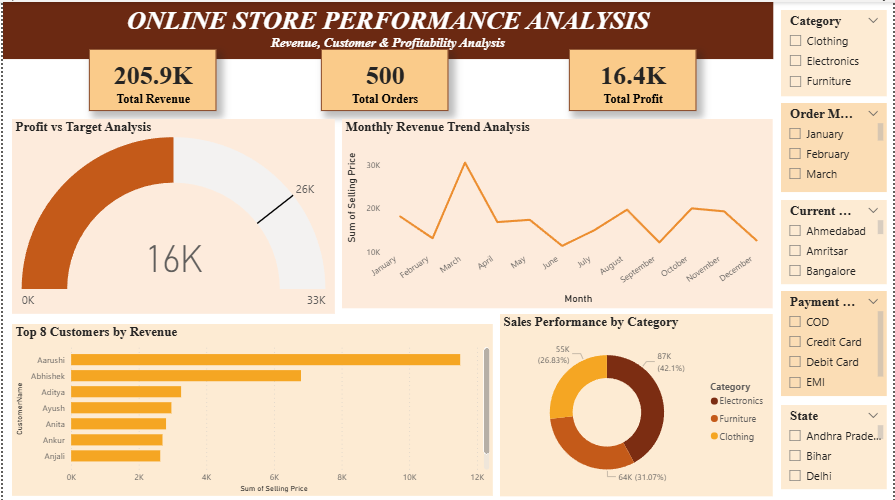

The page's visual inventory and layout, read from the dashboard file:
{"tool":"powerbi","page":{"name":"Online Store Performance Analysis","canvas":[1280,720],"ordinal":4},"visuals":[{"type":"textbox","box":[0,0,1106.6,81.9],"z":0},{"type":"card","fields":{"Values":["Sum(Online_Stores.Selling Price)"]},"box":[123.6,67.5,182.5,89.1],"z":1000},{"type":"card","fields":{"Values":["Count(Online_Stores.Order ID)"]},"box":[457,67.5,182.5,89.1],"z":2000},{"type":"card","fields":{"Values":["Sum(Online_Stores.Profit)"]},"box":[813.4,67.5,182.5,89.1],"z":3000},{"type":"donutChart","title":"Sales Performance by Category","fields":{"Category":["Online_Stores.Category"],"Y":["Sum(Online_Stores.Selling Price)"]},"box":[714.3,448.4,392.3,261.6],"z":4000},{"type":"lineChart","title":"Monthly Revenue Trend Analysis","fields":{"Category":["Online_Stores.Order Date.Variation.Date Hierarchy.Month"],"Y":["Sum(Online_Stores.Selling Price)"]},"box":[487.2,168.1,619.4,271.6],"z":5000},{"type":"gauge","title":"Profit vs Target Analysis","fields":{"Y":["Sum(Online_Stores.Profit)"],"TargetValue":["Sum(Online_Stores.Target Profit)"]},"box":[12.9,168.1,464.2,280.2],"z":6000},{"type":"clusteredBarChart","title":"Top 8 Customers by Revenue","fields":{"Category":["Online_Stores.CustomerName"],"Y":["Sum(Online_Stores.Selling Price)"]},"box":[12.9,462.8,691.3,247.2],"z":7000},{"type":"slicer","fields":{"Values":["Online_Stores.Category"]},"box":[1118.1,11.5,152.3,123.6],"z":8000},{"type":"slicer","fields":{"Values":["Online_Stores.Order Date.Variation.Date Hierarchy.Month"]},"box":[1118.1,145.1,152.3,127.9],"z":9000},{"type":"slicer","fields":{"Values":["Online_Stores.Payment Mode"]},"box":[1118.1,415.3,152.3,150.9],"z":10000},{"type":"slicer","fields":{"Values":["Online_Stores.State"]},"box":[1118.1,579.2,152.3,120.7],"z":11000},{"type":"slicer","fields":{"Values":["Online_Stores.City"]},"box":[1118.1,284.6,152.3,120.7],"z":12000}]}

Visuals, with their boxes in screenshot pixels (x1, y1, x2, y2), scaled from the page's 1280x720 canvas onto the 895x500 screenshot:
textbox: 0 0 774 57
card - Sum(Online_Stores.Selling Price): 86 47 214 109
card - Count(Online_Stores.Order ID): 320 47 447 109
card - Sum(Online_Stores.Profit): 569 47 696 109
"Sales Performance by Category" donutChart: 499 311 774 493
"Monthly Revenue Trend Analysis" lineChart: 341 117 774 305
"Profit vs Target Analysis" gauge: 9 117 334 311
"Top 8 Customers by Revenue" clusteredBarChart: 9 321 492 493
slicer - Online_Stores.Category: 782 8 888 94
slicer - Online_Stores.Order Date.Variation.Date Hierarchy.Month: 782 101 888 190
slicer - Online_Stores.Payment Mode: 782 288 888 393
slicer - Online_Stores.State: 782 402 888 486
slicer - Online_Stores.City: 782 198 888 281
